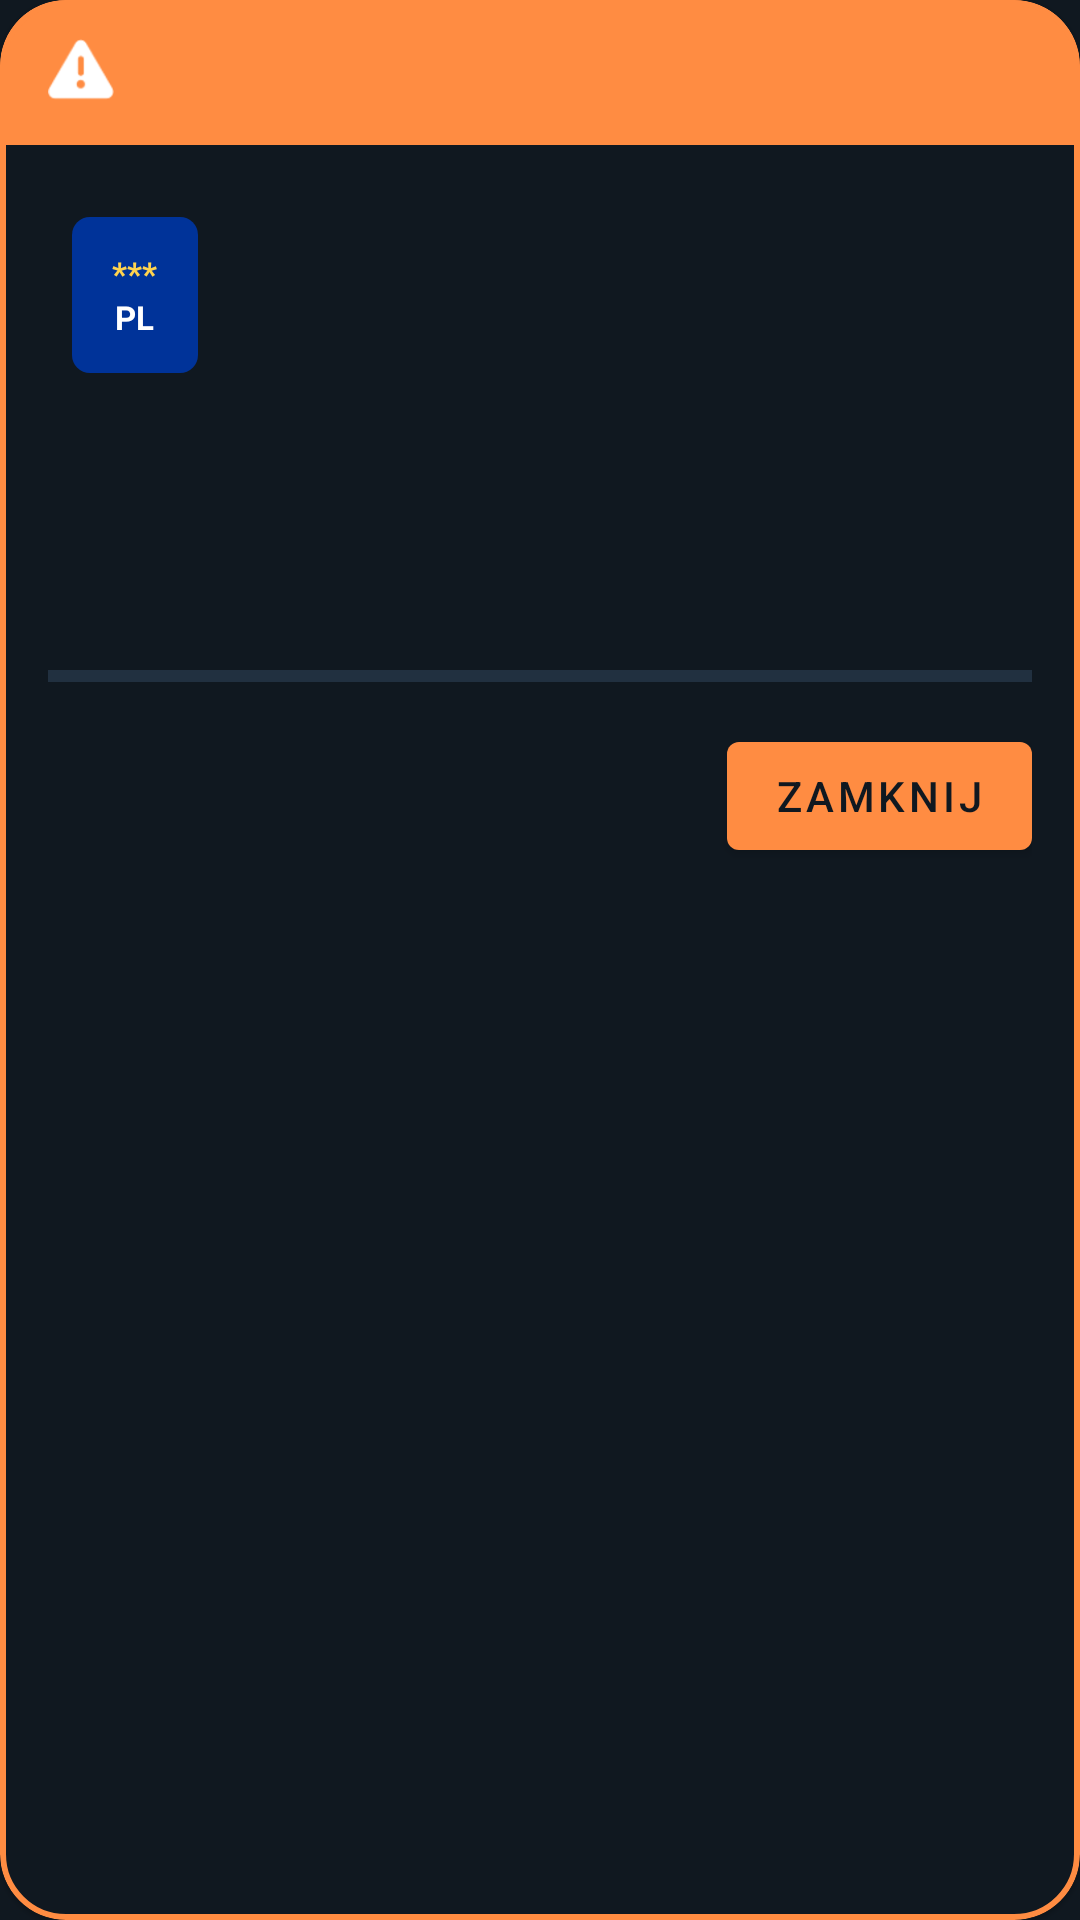

Icon bounding boxes for this 1080px×1920px phone screenshot, format Rect(x1, y1, x2, y2):
alert: Rect(48, 39, 114, 99)
